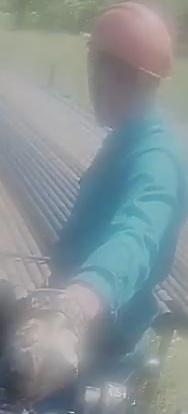gloves: (0, 281, 89, 414)
helmet: (81, 1, 179, 85)
vest: (48, 123, 188, 339)
